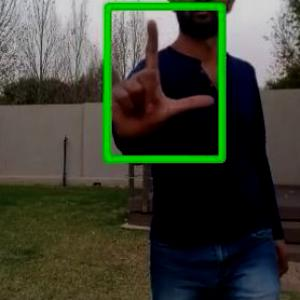land_hand: (106, 13, 217, 145)
